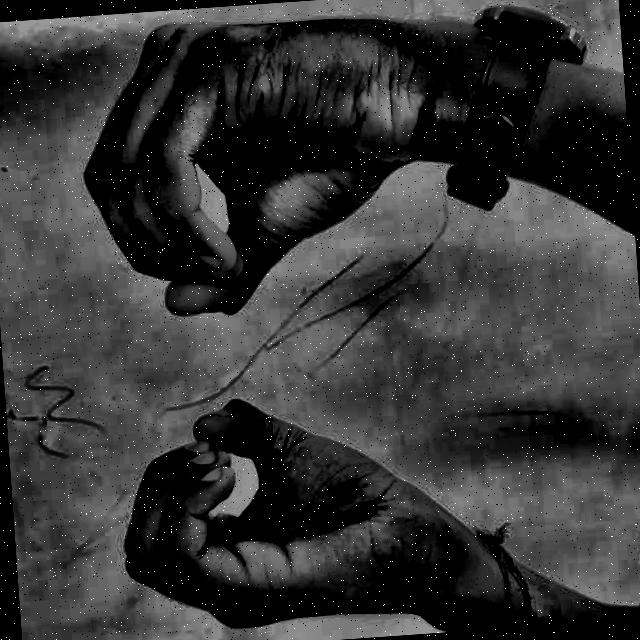Bisharga: (42, 0, 477, 640)
